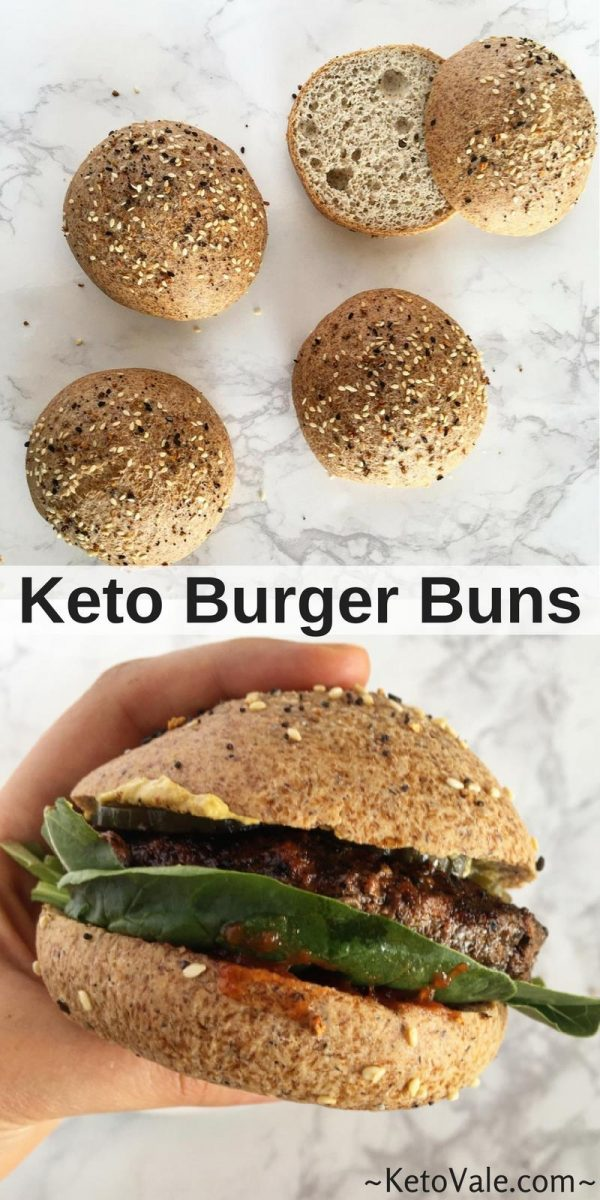hamburger_buns: (18, 690, 555, 1100), (17, 348, 237, 568), (276, 285, 492, 489)
